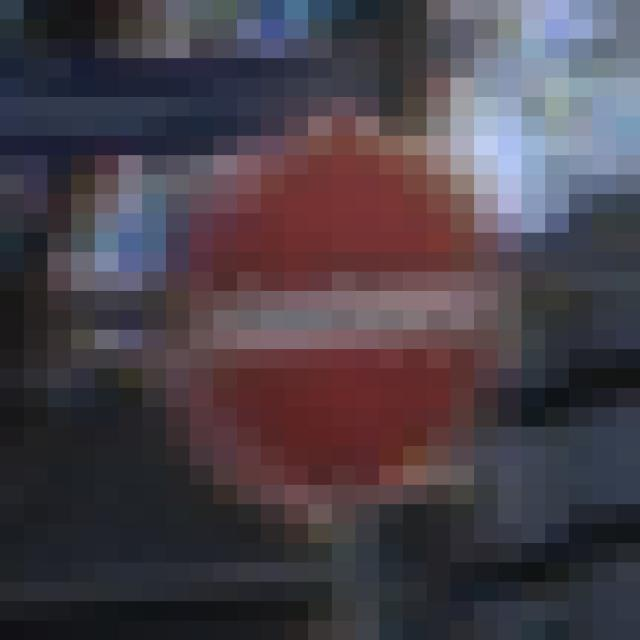No Entry: (120, 98, 523, 544)
